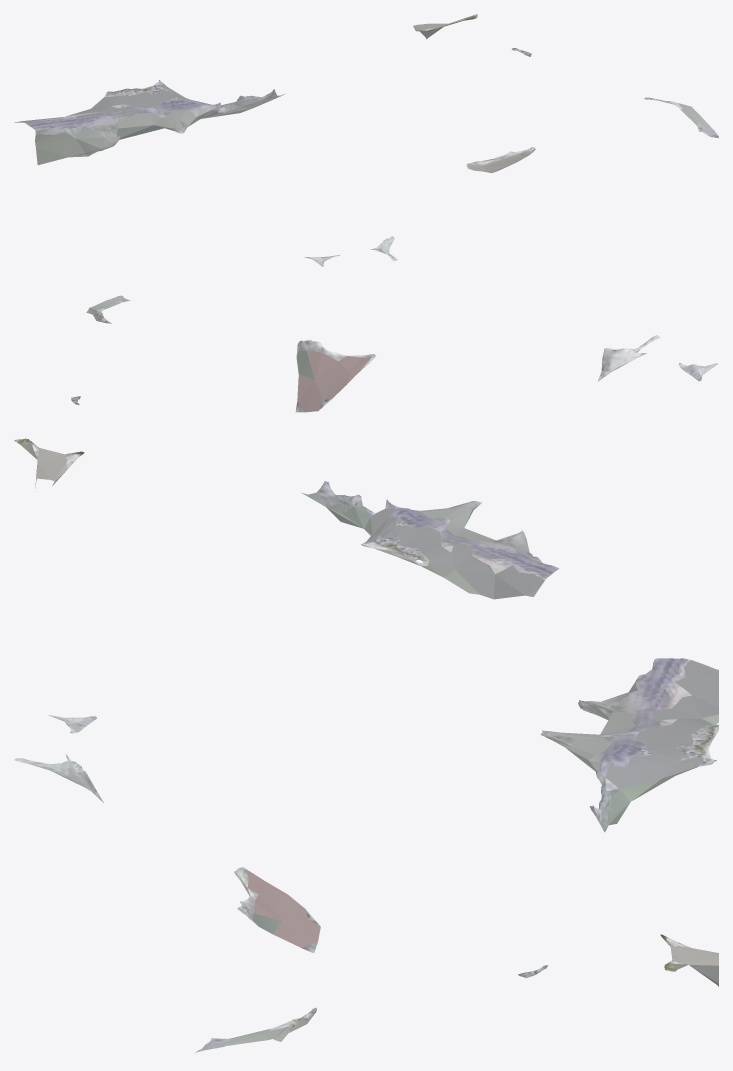
3 views of the same model, one above another, from view 1: azimuth 30°, elevation 25°; view 2: azimuth 150°, elevation 25°; view 3: azimuth 270°, elevation 25° (orthographic). The views are drawn at different scales.
Bounding box in the file's own units: 3.93 × 0.3246 × 3.16.
1 material, 1 textured.
